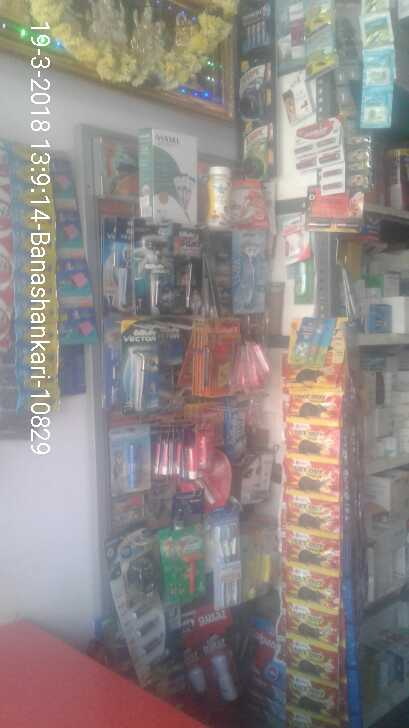gillette: (107, 319, 163, 434), (126, 224, 175, 324), (168, 225, 206, 326)
